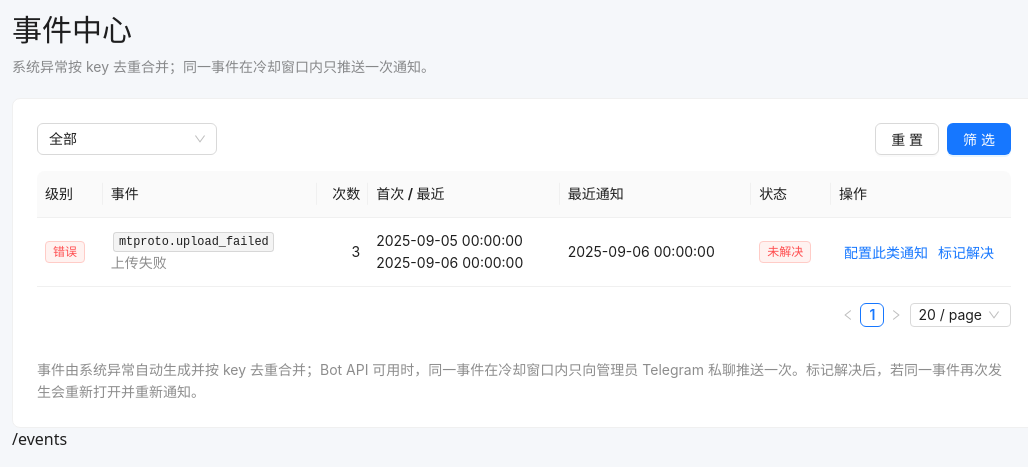
Test: 事件中心页 › 配置此类通知跳转规则 Tab 并携带事件 key
Click the button "配置此类通知" at coordinates (886, 252), box [839,240,933,264]
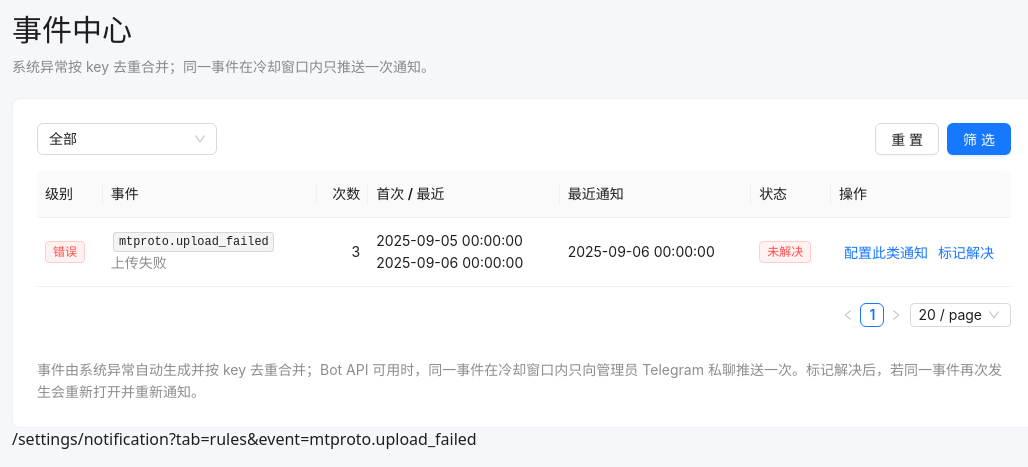
Check: the text with test id "location" reads "/settings/notification?tab=rules&event=mtproto.upload_failed", box [12,428,477,450]
